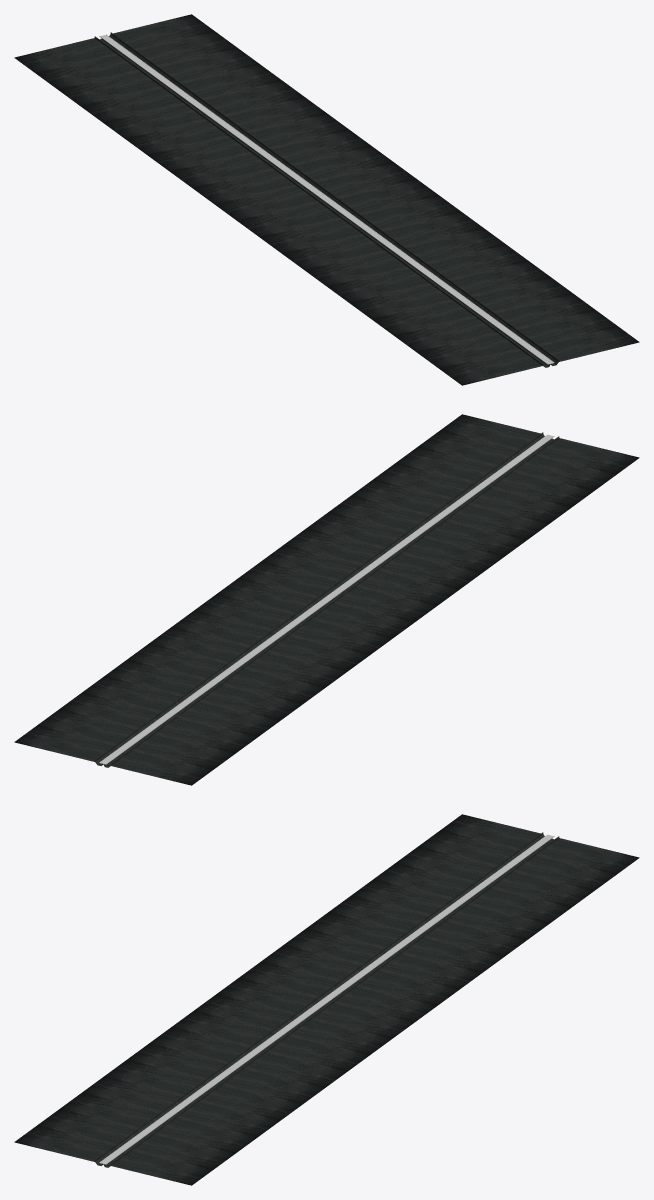
File: RoadTown.fbx
3 views of the same model, one above another, from view 1: azimuth 30°, elevation 25°; view 2: azimuth 150°, elevation 25°; view 3: azimuth 330°, elevation 25° (orthographic).
Parts seen in each view (by area): view 1: RoadTown; view 2: RoadTown; view 3: RoadTown.
Boxes of the visible parts, <box> form: RoadTown: <box>14,14,639,385</box>; RoadTown: <box>14,414,639,785</box>; RoadTown: <box>14,814,639,1185</box>.
Bounding box in the file's own units: 28523 × 643 × 124527.
